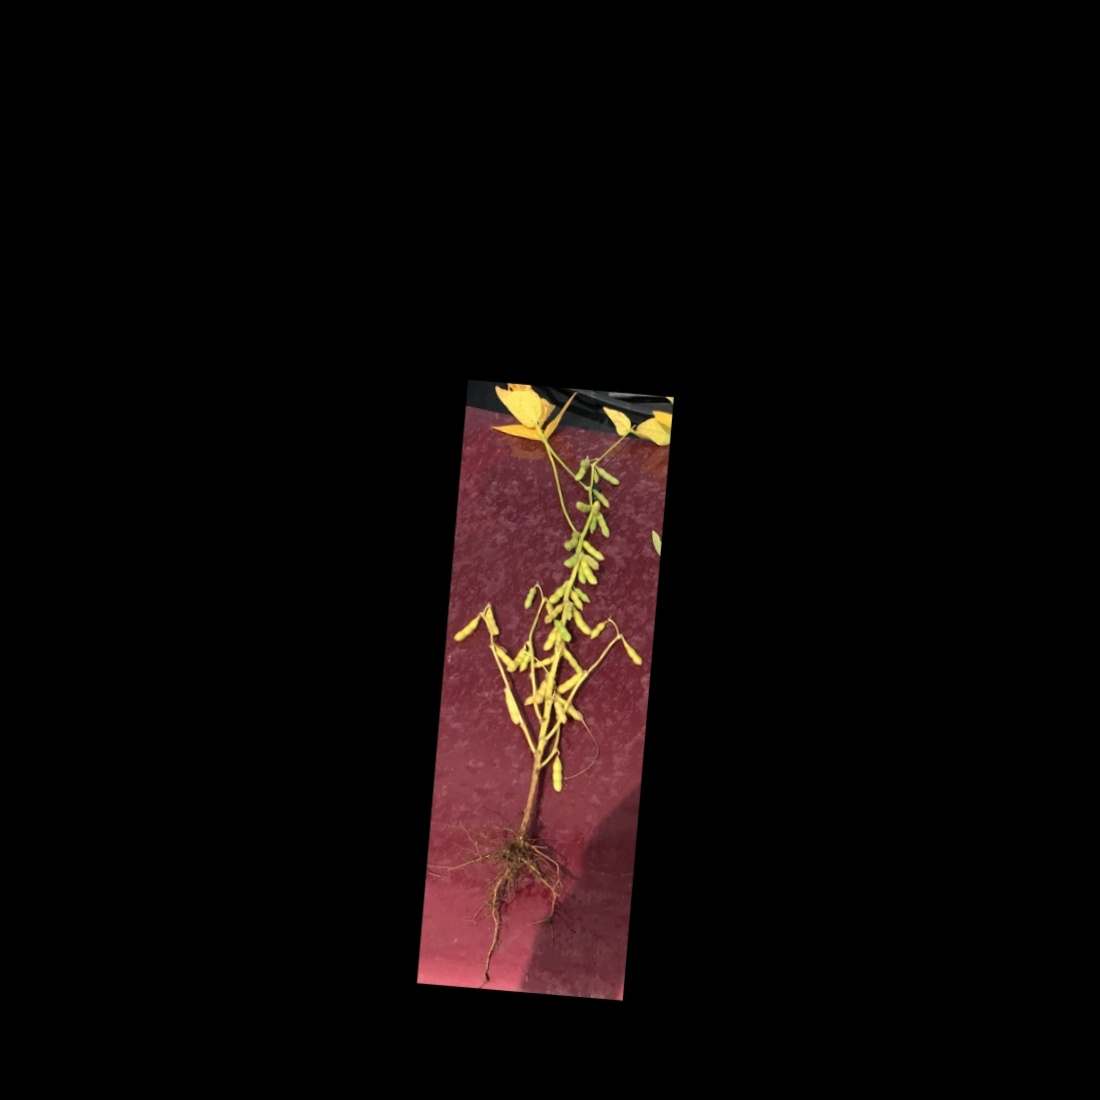pod: (452, 611, 482, 645), (491, 642, 521, 673), (552, 668, 582, 696), (480, 602, 505, 638), (618, 637, 646, 668), (591, 462, 623, 490), (546, 754, 568, 793), (503, 642, 527, 676), (559, 646, 586, 676), (577, 557, 601, 589), (592, 509, 614, 543), (578, 538, 606, 564), (539, 623, 561, 655), (571, 606, 594, 636), (527, 653, 560, 673), (589, 486, 614, 511), (545, 578, 567, 606), (586, 618, 610, 642), (520, 583, 537, 614), (572, 498, 596, 519)
soy: (423, 390, 665, 986)
